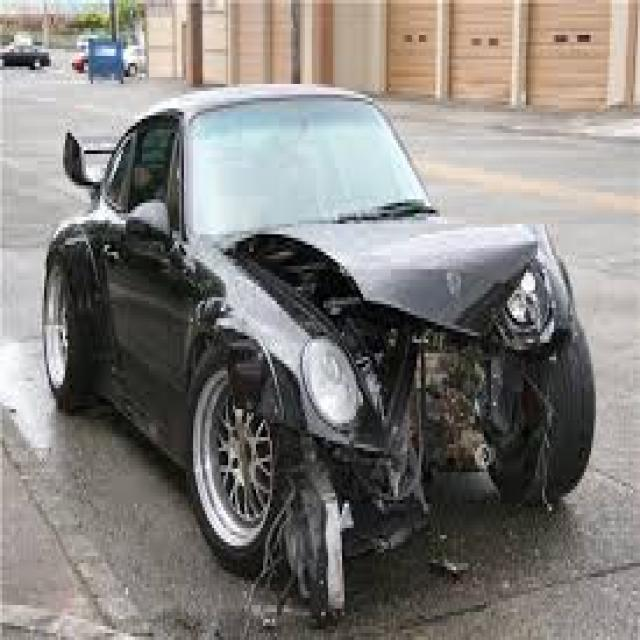moderate: (173, 199, 592, 584)
